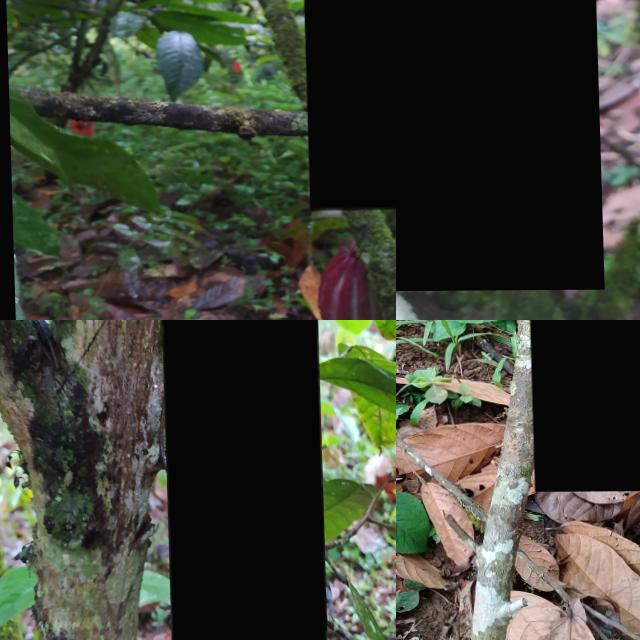Monilia: (396, 0, 601, 292), (158, 320, 326, 640), (298, 0, 396, 210), (527, 320, 640, 492)
